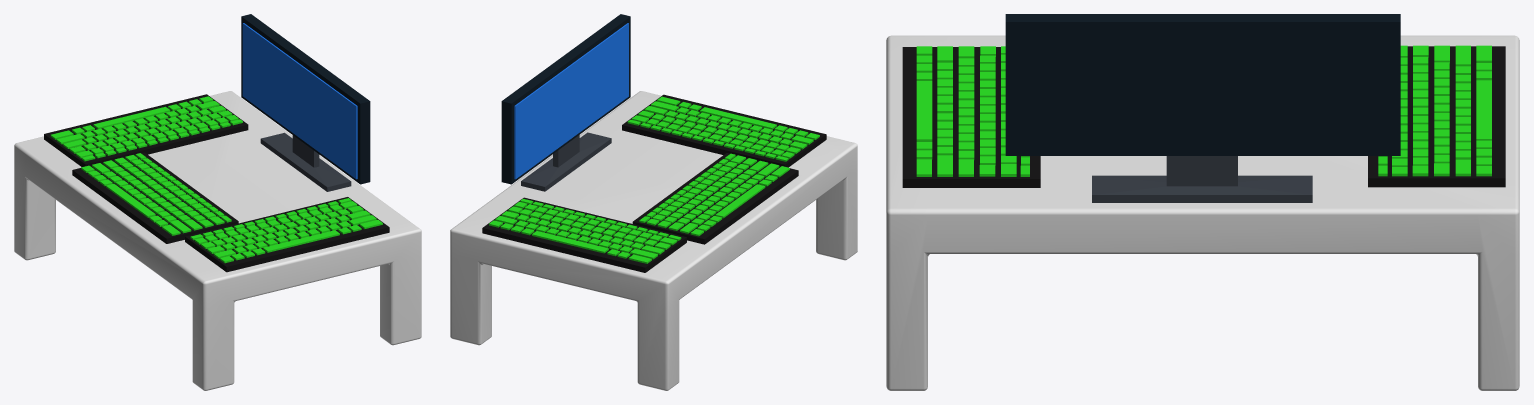
The model's file is computer.fbx.
3 views of the same model, side by side, from view 1: azimuth 30°, elevation 25°; view 2: azimuth 150°, elevation 25°; view 3: azimuth 270°, elevation 25° (orthographic). The views are drawn at different scales.
Visible parts, largest first — view 1: Cube.001, Cube.005, Cube.164, Cube, Cube.083, Cube.165, Cube.084, Cube.002; view 2: Cube.001, Cube.005, Cube.083, Cube, Cube.164, Cube.084, Cube.165, Cube.002; view 3: Cube.001, Cube.005, Cube.083, Cube.164, Cube.165, Cube.084.
Part boxes in pixels (x1=…): Cube.001: x1=14, y1=91, x2=421, y2=390; Cube.005: x1=241, y1=14, x2=370, y2=191; Cube.164: x1=185, y1=197, x2=389, y2=272; Cube: x1=72, y1=152, x2=238, y2=243; Cube.083: x1=44, y1=94, x2=248, y2=166; Cube.165: x1=263, y1=230, x2=339, y2=252; Cube.084: x1=93, y1=106, x2=170, y2=129; Cube.002: x1=106, y1=183, x2=155, y2=217; Cube.001: x1=450, y1=91, x2=857, y2=390; Cube.005: x1=501, y1=14, x2=630, y2=191; Cube.083: x1=482, y1=197, x2=686, y2=272; Cube: x1=632, y1=153, x2=798, y2=244; Cube.164: x1=622, y1=94, x2=826, y2=167; Cube.084: x1=532, y1=231, x2=608, y2=253; Cube.165: x1=700, y1=107, x2=776, y2=129; Cube.002: x1=715, y1=184, x2=765, y2=218; Cube.001: x1=886, y1=35, x2=1519, y2=390; Cube.005: x1=1005, y1=14, x2=1400, y2=202; Cube.083: x1=1368, y1=46, x2=1505, y2=187; Cube.164: x1=902, y1=47, x2=1040, y2=187; Cube.165: x1=916, y1=81, x2=932, y2=141; Cube.084: x1=1476, y1=80, x2=1491, y2=140.
Bounding box in the file's own units: 269 × 253 × 406.
